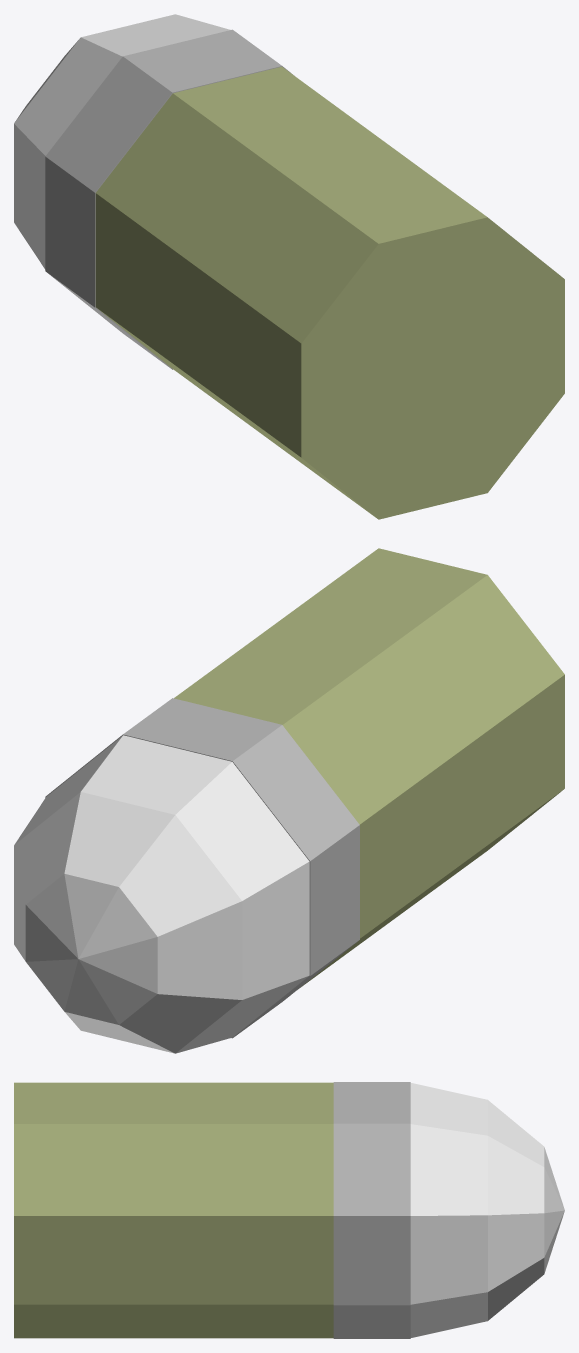
Rendered from ce_ammo_grenade_smk_a.obj.
3 renders of one model, top to bottom at view 1: azimuth 30°, elevation 25°; view 2: azimuth 150°, elevation 25°; view 3: azimuth 270°, elevation 25°, orthographic. The views are drawn at different scales.
Parts seen in each view (by area): view 1: ce_ammo_grenade_smk_a_0, ce_ammo_grenade_smk_a_1, ce_ammo_grenade_smk_a_2; view 2: ce_ammo_grenade_smk_a_0, ce_ammo_grenade_smk_a_3, ce_ammo_grenade_smk_a_2, ce_ammo_grenade_smk_a_1, ce_ammo_grenade_smk_a_4; view 3: ce_ammo_grenade_smk_a_0, ce_ammo_grenade_smk_a_1, ce_ammo_grenade_smk_a_2, ce_ammo_grenade_smk_a_3, ce_ammo_grenade_smk_a_4.
Boxes of the visible parts, left/top/right/bottom form: ce_ammo_grenade_smk_a_0: left=95, top=66, right=564, bottom=519; ce_ammo_grenade_smk_a_1: left=45, top=29, right=294, bottom=369; ce_ammo_grenade_smk_a_2: left=14, top=14, right=230, bottom=269; ce_ammo_grenade_smk_a_0: left=174, top=548, right=564, bottom=987; ce_ammo_grenade_smk_a_3: left=14, top=792, right=242, bottom=1053; ce_ammo_grenade_smk_a_2: left=14, top=735, right=309, bottom=1053; ce_ammo_grenade_smk_a_1: left=45, top=698, right=359, bottom=1038; ce_ammo_grenade_smk_a_4: left=25, top=873, right=157, bottom=1024; ce_ammo_grenade_smk_a_0: left=14, top=1082, right=333, bottom=1338; ce_ammo_grenade_smk_a_1: left=333, top=1082, right=410, bottom=1338; ce_ammo_grenade_smk_a_2: left=410, top=1083, right=487, bottom=1337; ce_ammo_grenade_smk_a_3: left=488, top=1100, right=544, bottom=1320; ce_ammo_grenade_smk_a_4: left=544, top=1147, right=564, bottom=1273.
Bounding box in the file's own units: 0.2414 × 0.2414 × 0.56.
